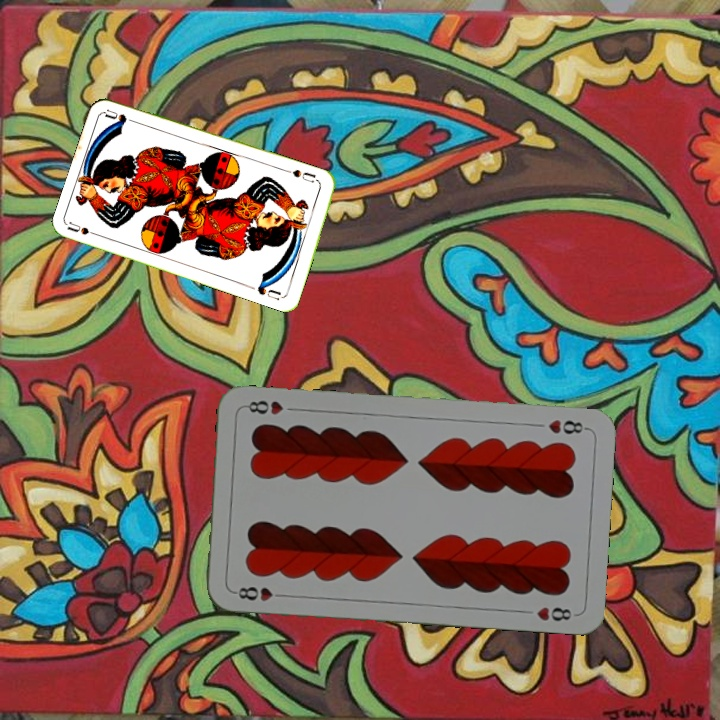H8: (230, 582, 289, 604), (544, 415, 590, 437)
SU: (64, 218, 105, 240), (283, 165, 318, 185)
